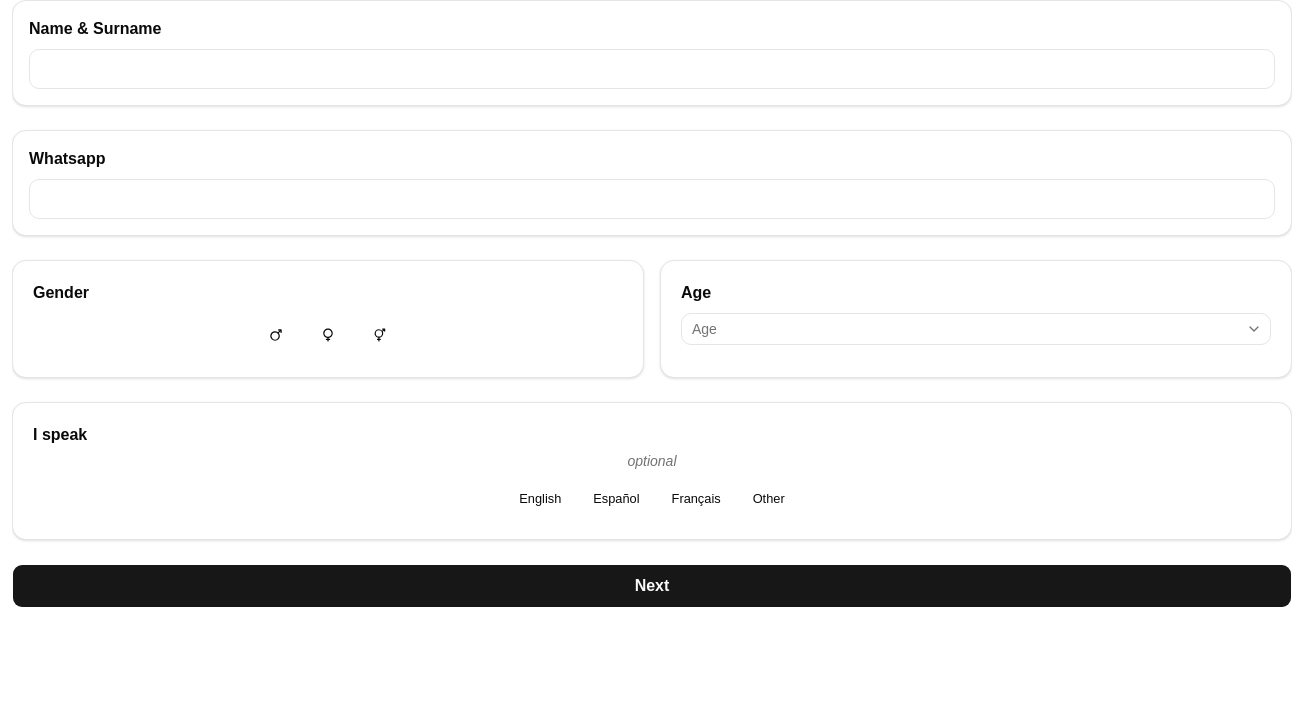
Test: FirstForm › blocks progression when required fields are blank
Click the button "Next" at (652, 586), box 12,564 -> 1292,608
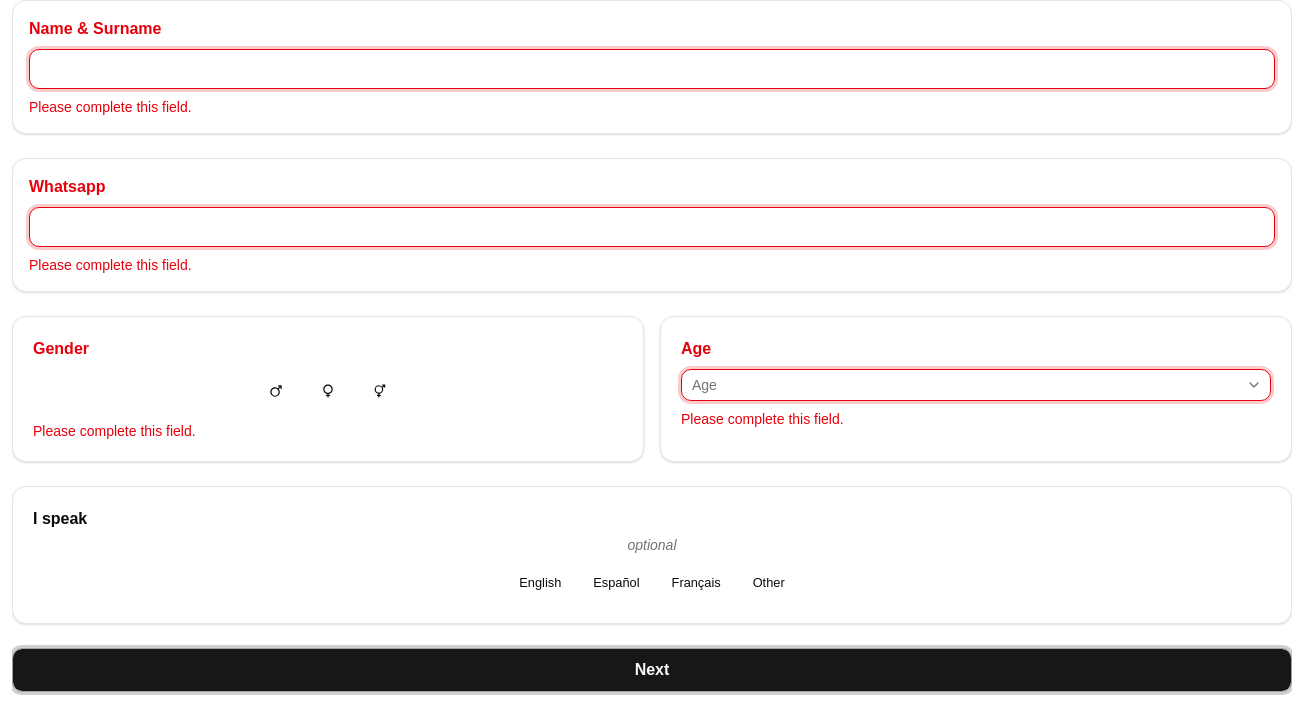
Expected: the text "Please complete this field." is shown 4 times, 29,99 -> 192,115; 29,257 -> 192,273; 33,423 -> 196,439; 681,411 -> 844,427
